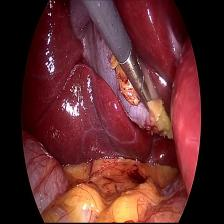Grasper: (123, 42, 154, 120)
